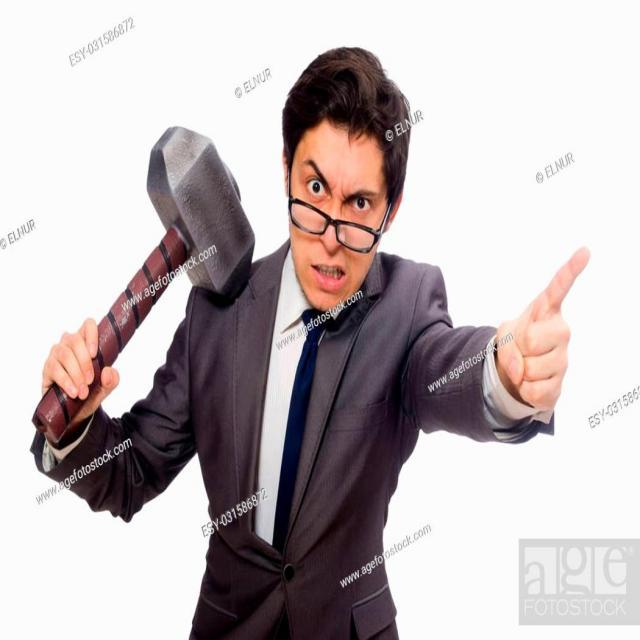hammer: (25, 118, 265, 456)
